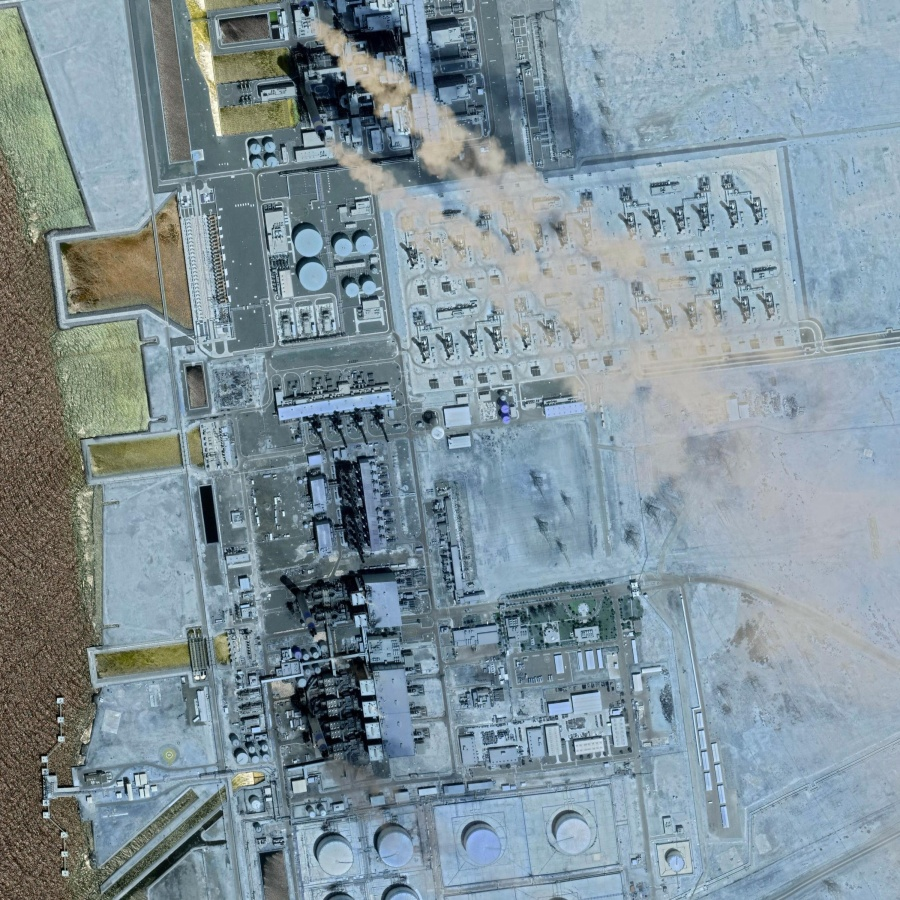PowerPlant: (227, 447, 449, 763)
